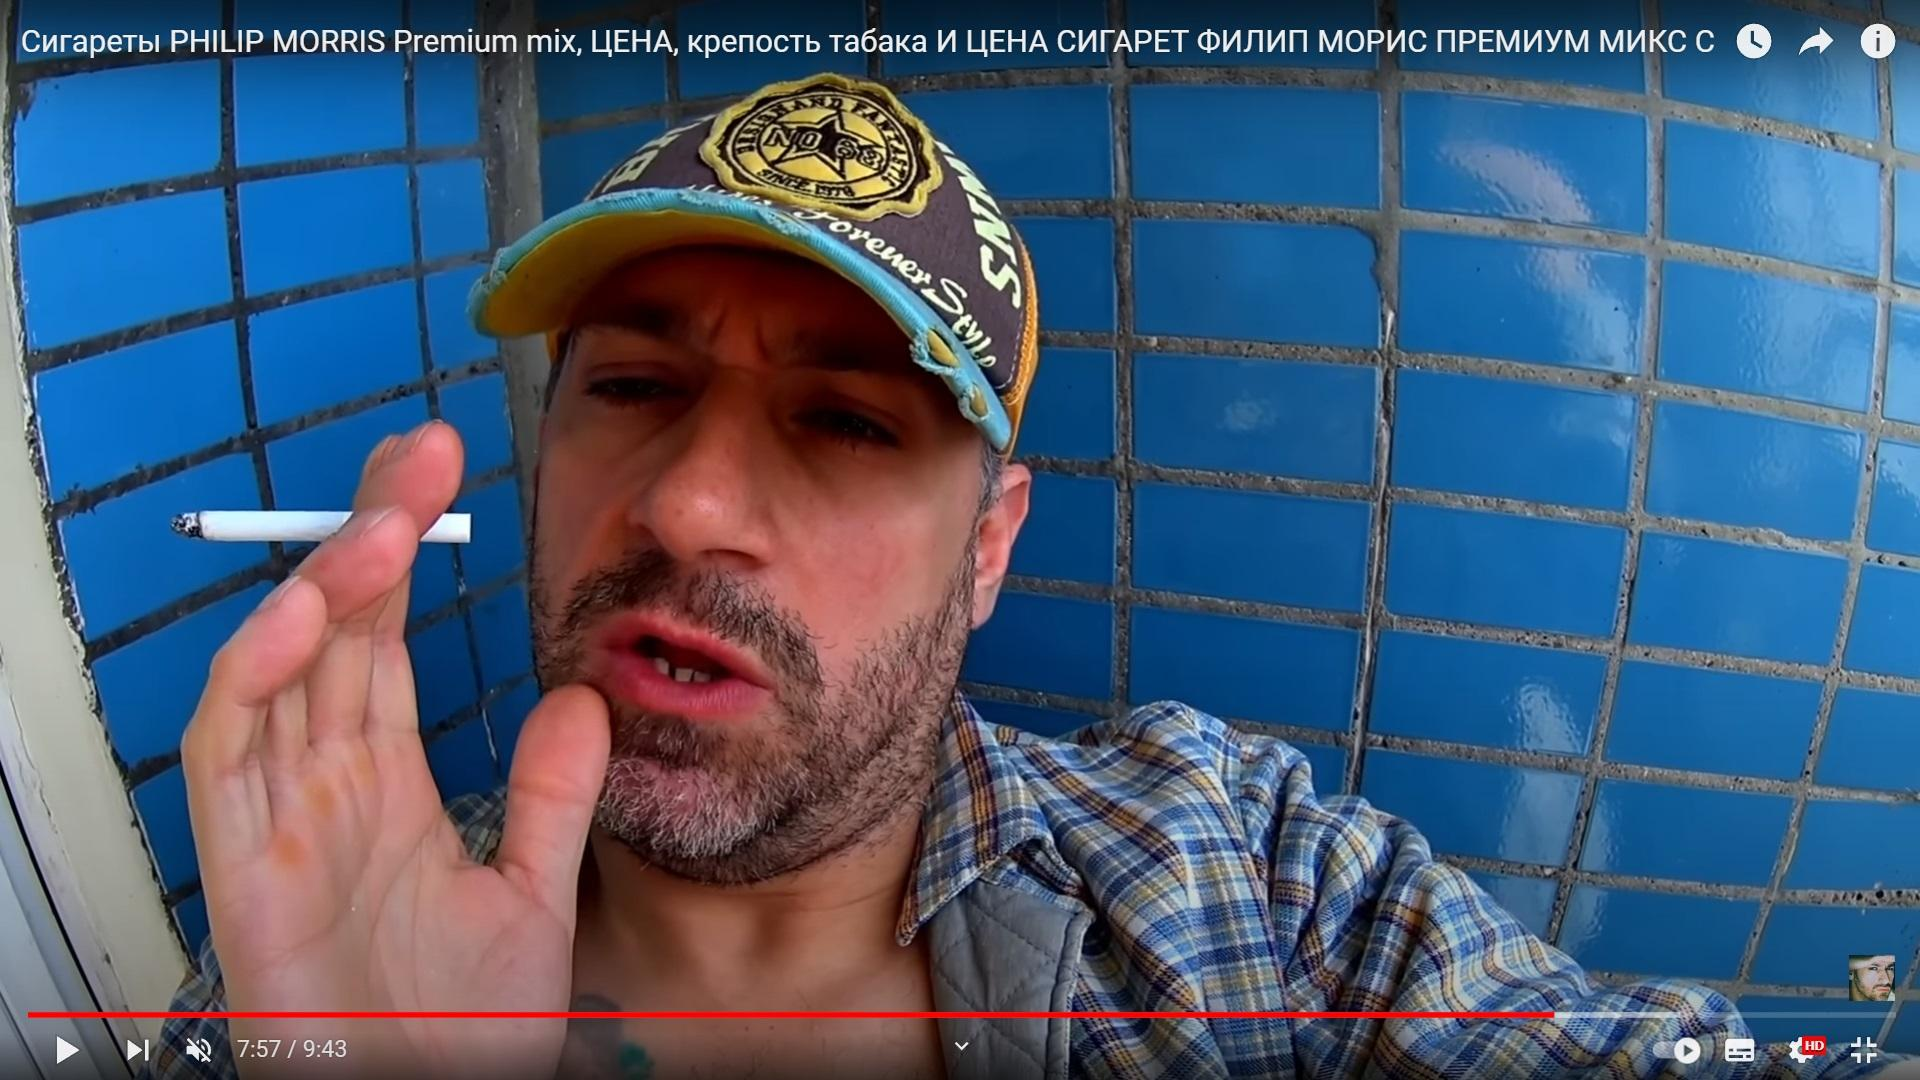cigarette: (173, 512, 471, 545)
